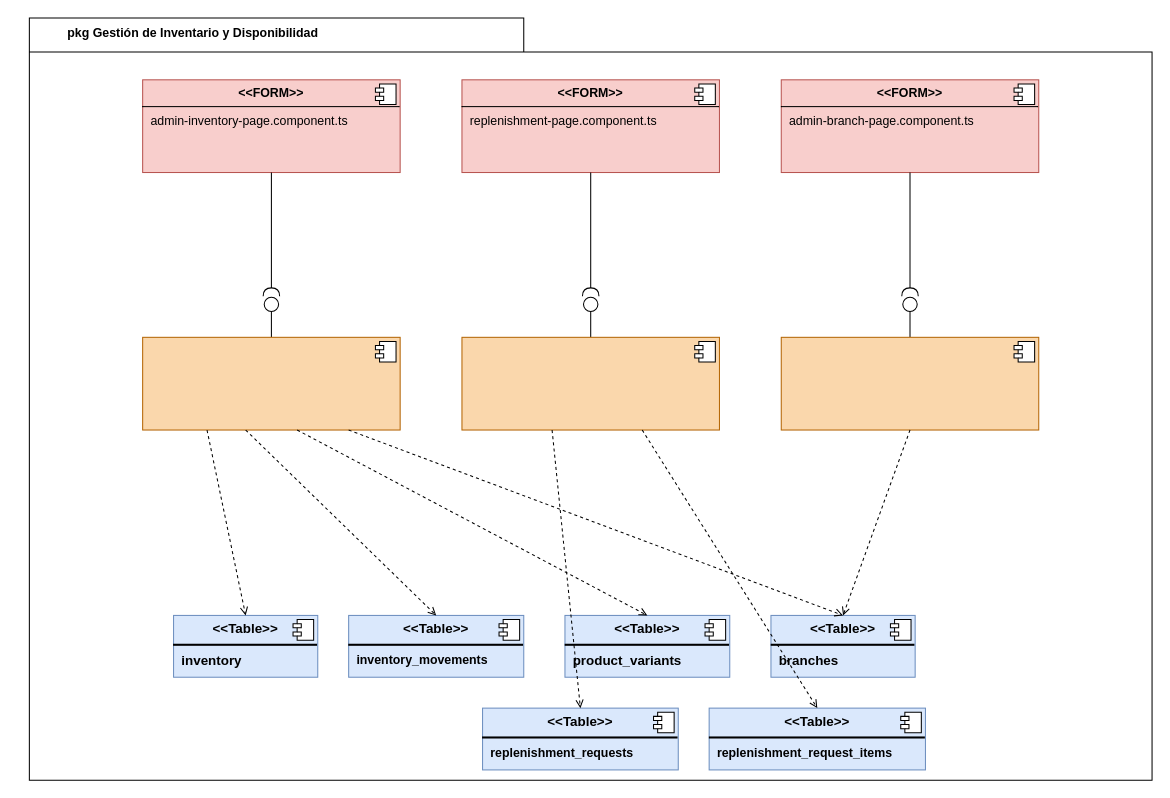
This 1170x798 diagram has some shape labels left out. Each missing label, with the centre of its shape:
"<<CLASS>> admin-branch.service.ts" belongs at [909,383].
"<<CLASS>> inventory-api.service.ts" belongs at [271,383].
"<<CLASS>> replenishment-api.service.ts" belongs at [590,383].
